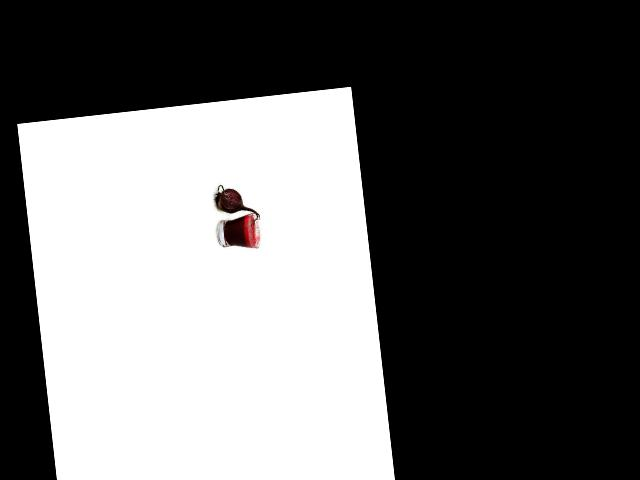beet: (213, 181, 260, 230)
